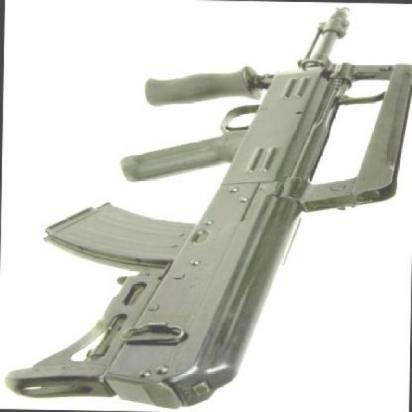Gun: (30, 6, 412, 407)
